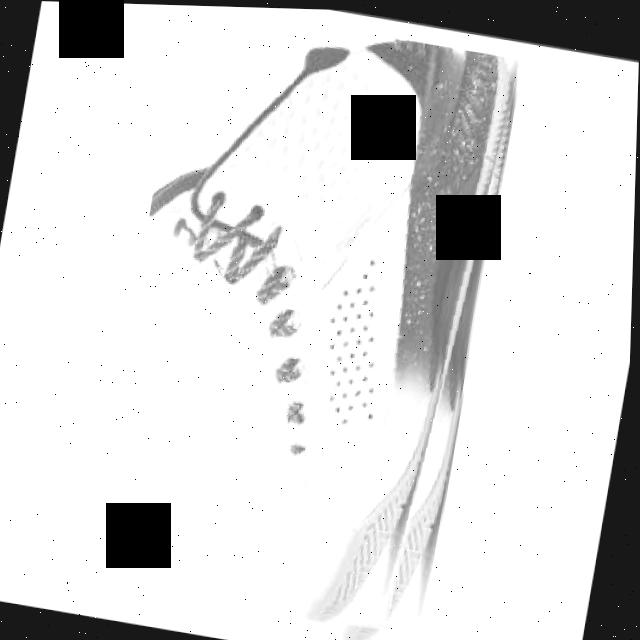shoe: (87, 2, 524, 640)
